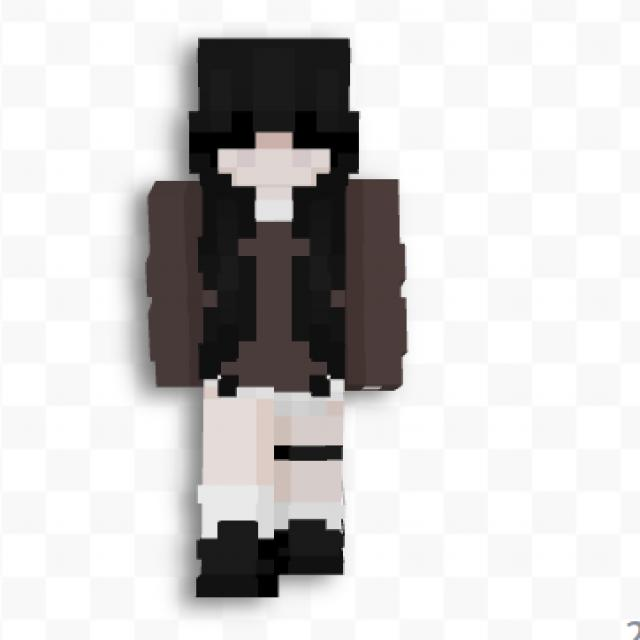Player: (146, 36, 408, 598)
